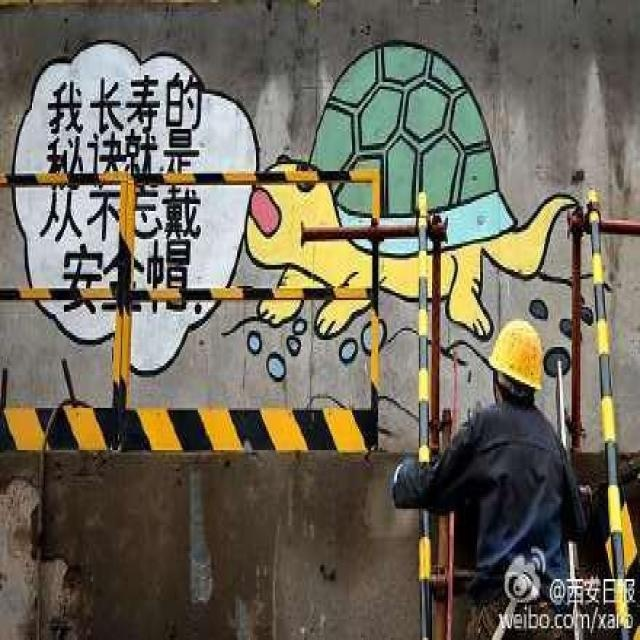Con_Casco: (495, 319, 542, 405)
